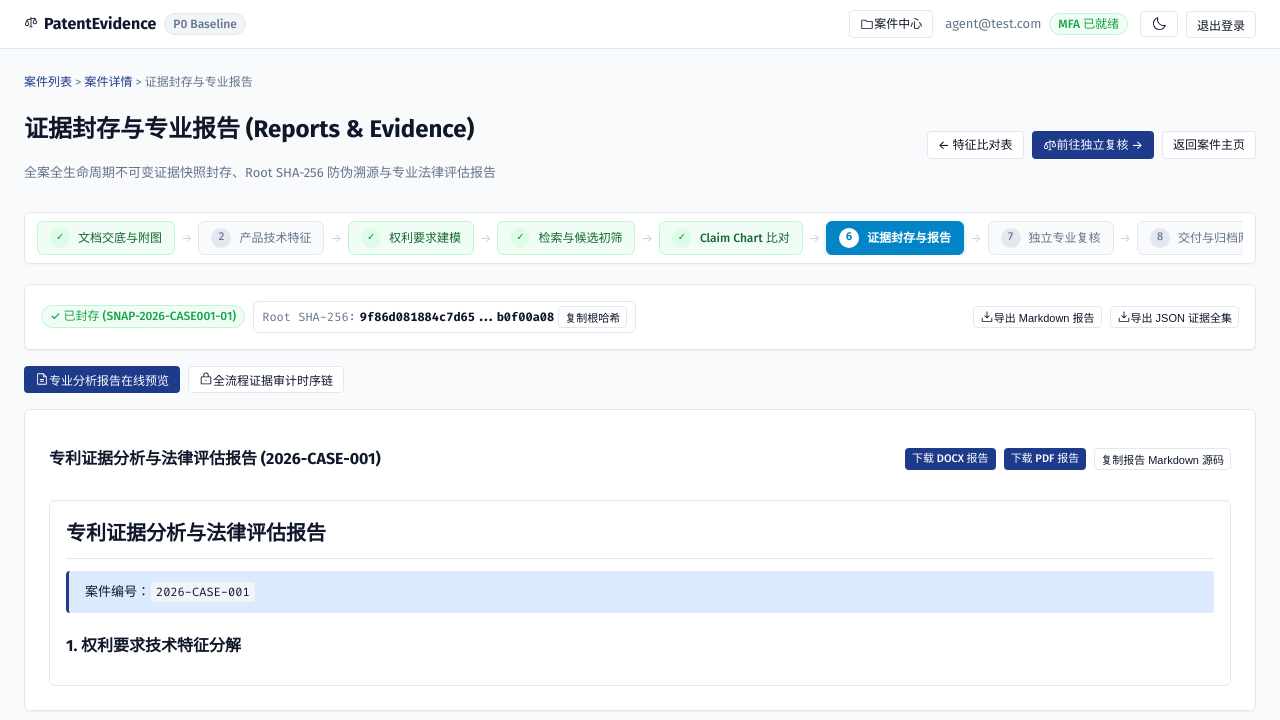
Reports & Evidence Snapshots Web Surface › switches between report preview and evidence audit timeline
The image size is (1280, 720).
Expected: the button "专业分析报告在线预览" is shown, [24,366,180,393]
Click Timeline tab
Click the button "全流程证据审计时序链" at [266, 379], box [188,366,344,393]
(page scrolled)
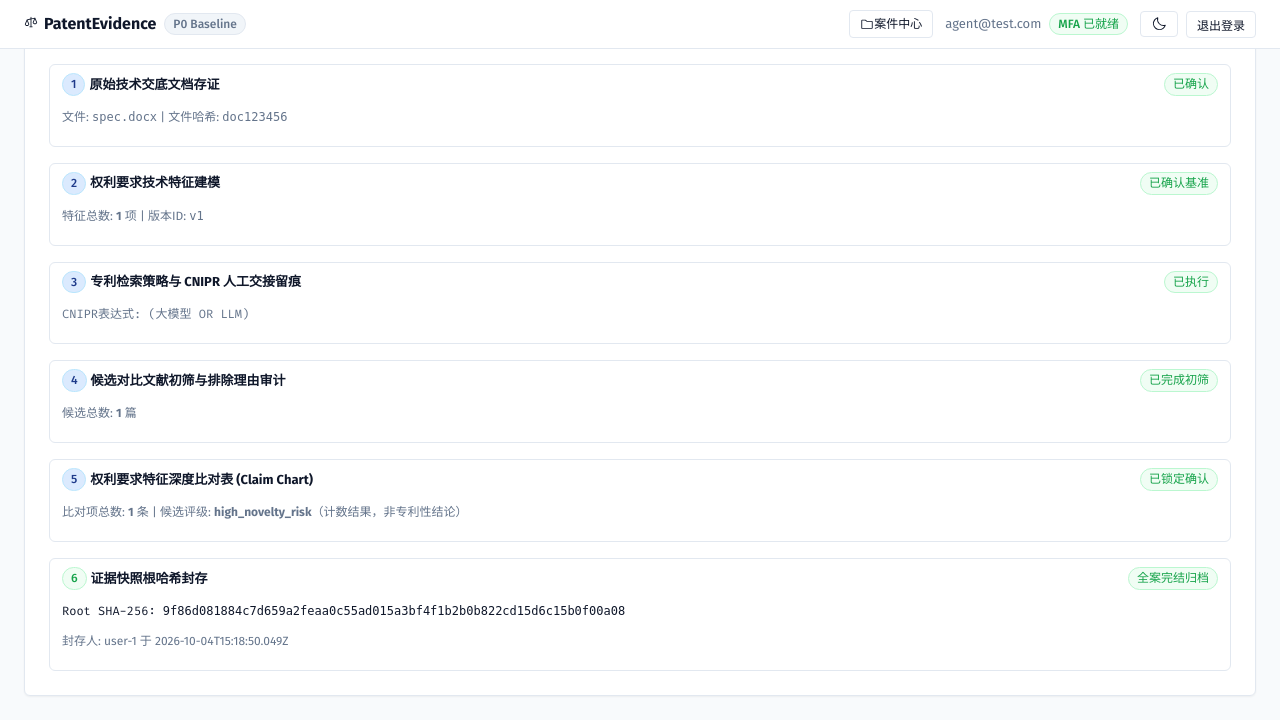
Expected: the heading "全流程不可变证据链审计时序 (Evidence Audit Chain)" is shown, [49,26,423,45]
Expected: the text "原始技术交底文档存证" is shown, [89,75,219,94]
Expected: the text "证据快照根哈希封存" is shown, [91,568,208,588]
